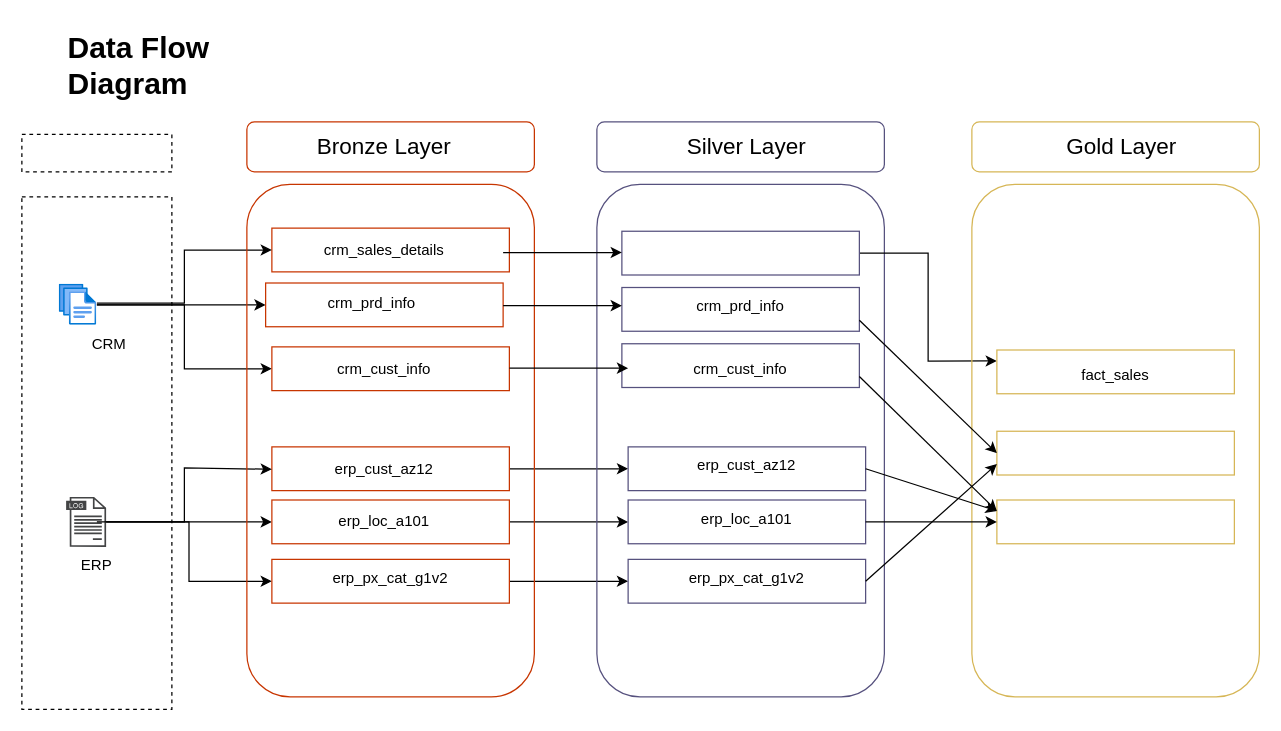
The diagram is 1281 pixels wide and 731 high, and some of its shapes have lost their labels. Each missing label, with the centre of its shape:
"crm_sales_detilas" goes at pixel 740 252.
"dim_customers" goes at pixel 1115 521.
"dim_products" goes at pixel 1115 452.
"Source" goes at pixel 96 152.
